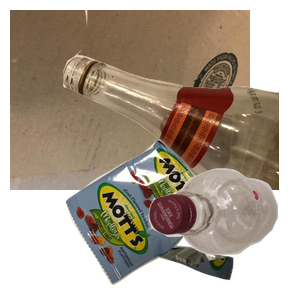cardboard: (10, 10, 250, 190)
glass: (60, 10, 300, 190)
plastic: (146, 166, 300, 300)
trash: (63, 137, 289, 300)
